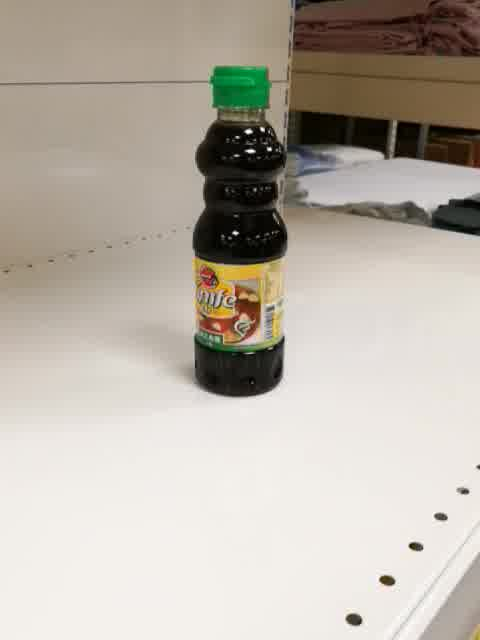cookingoil: (189, 62, 292, 397)
